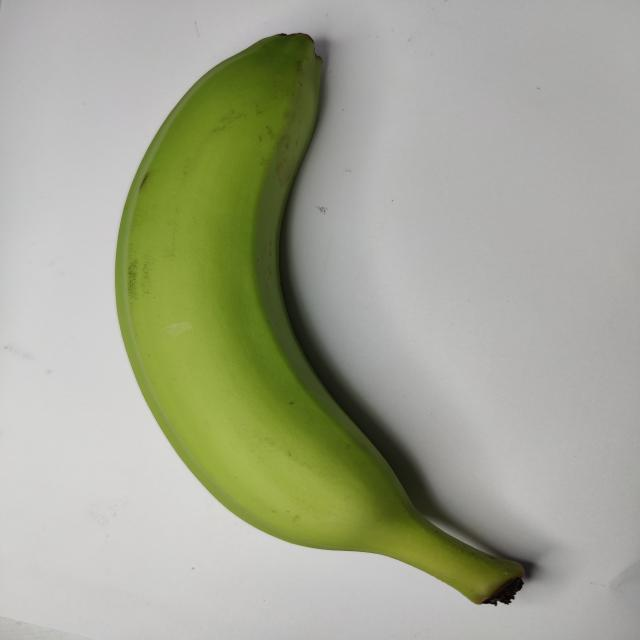raw: (81, 0, 574, 640)
